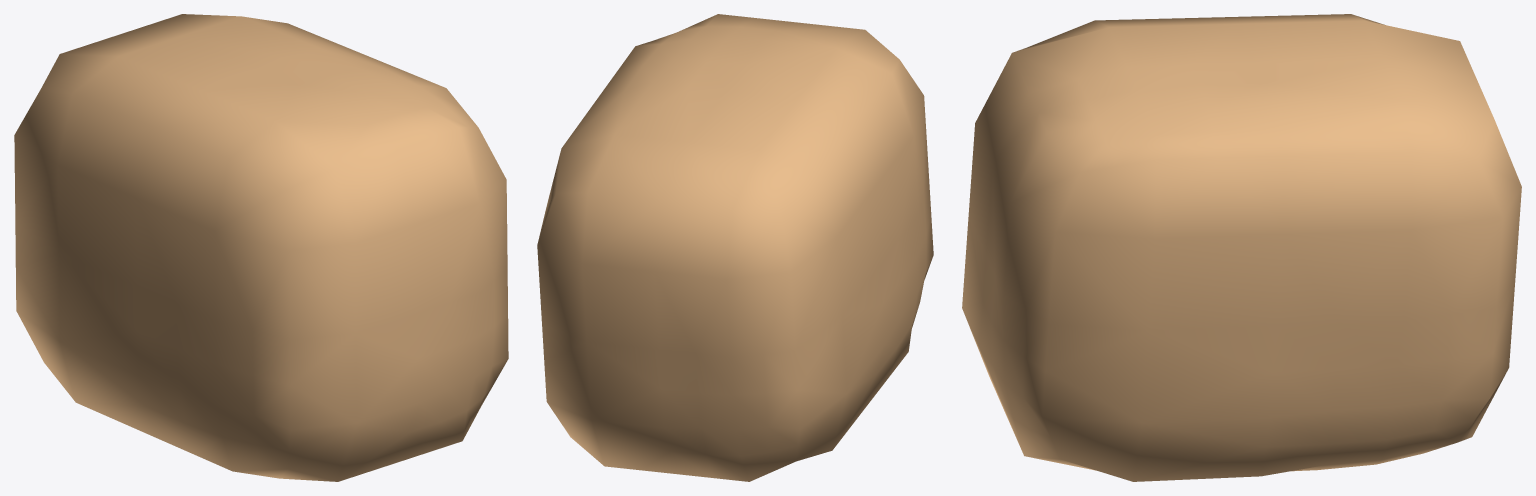
The model's file is ring_02_r.dae.
3 views of the same model, side by side, from view 1: azimuth 30°, elevation 25°; view 2: azimuth 150°, elevation 25°; view 3: azimuth 270°, elevation 25° (orthographic). The views are drawn at different scales.
Visible parts, largest first — view 1: skin_geo_ring_02_r; view 2: skin_geo_ring_02_r; view 3: skin_geo_ring_02_r.
Part boxes in pixels (x1=…): skin_geo_ring_02_r: x1=14, y1=14, x2=508, y2=481; skin_geo_ring_02_r: x1=537, y1=14, x2=933, y2=481; skin_geo_ring_02_r: x1=962, y1=14, x2=1521, y2=481.
Bounding box in the file's own units: 0.0203 × 0.0283 × 0.0215.
